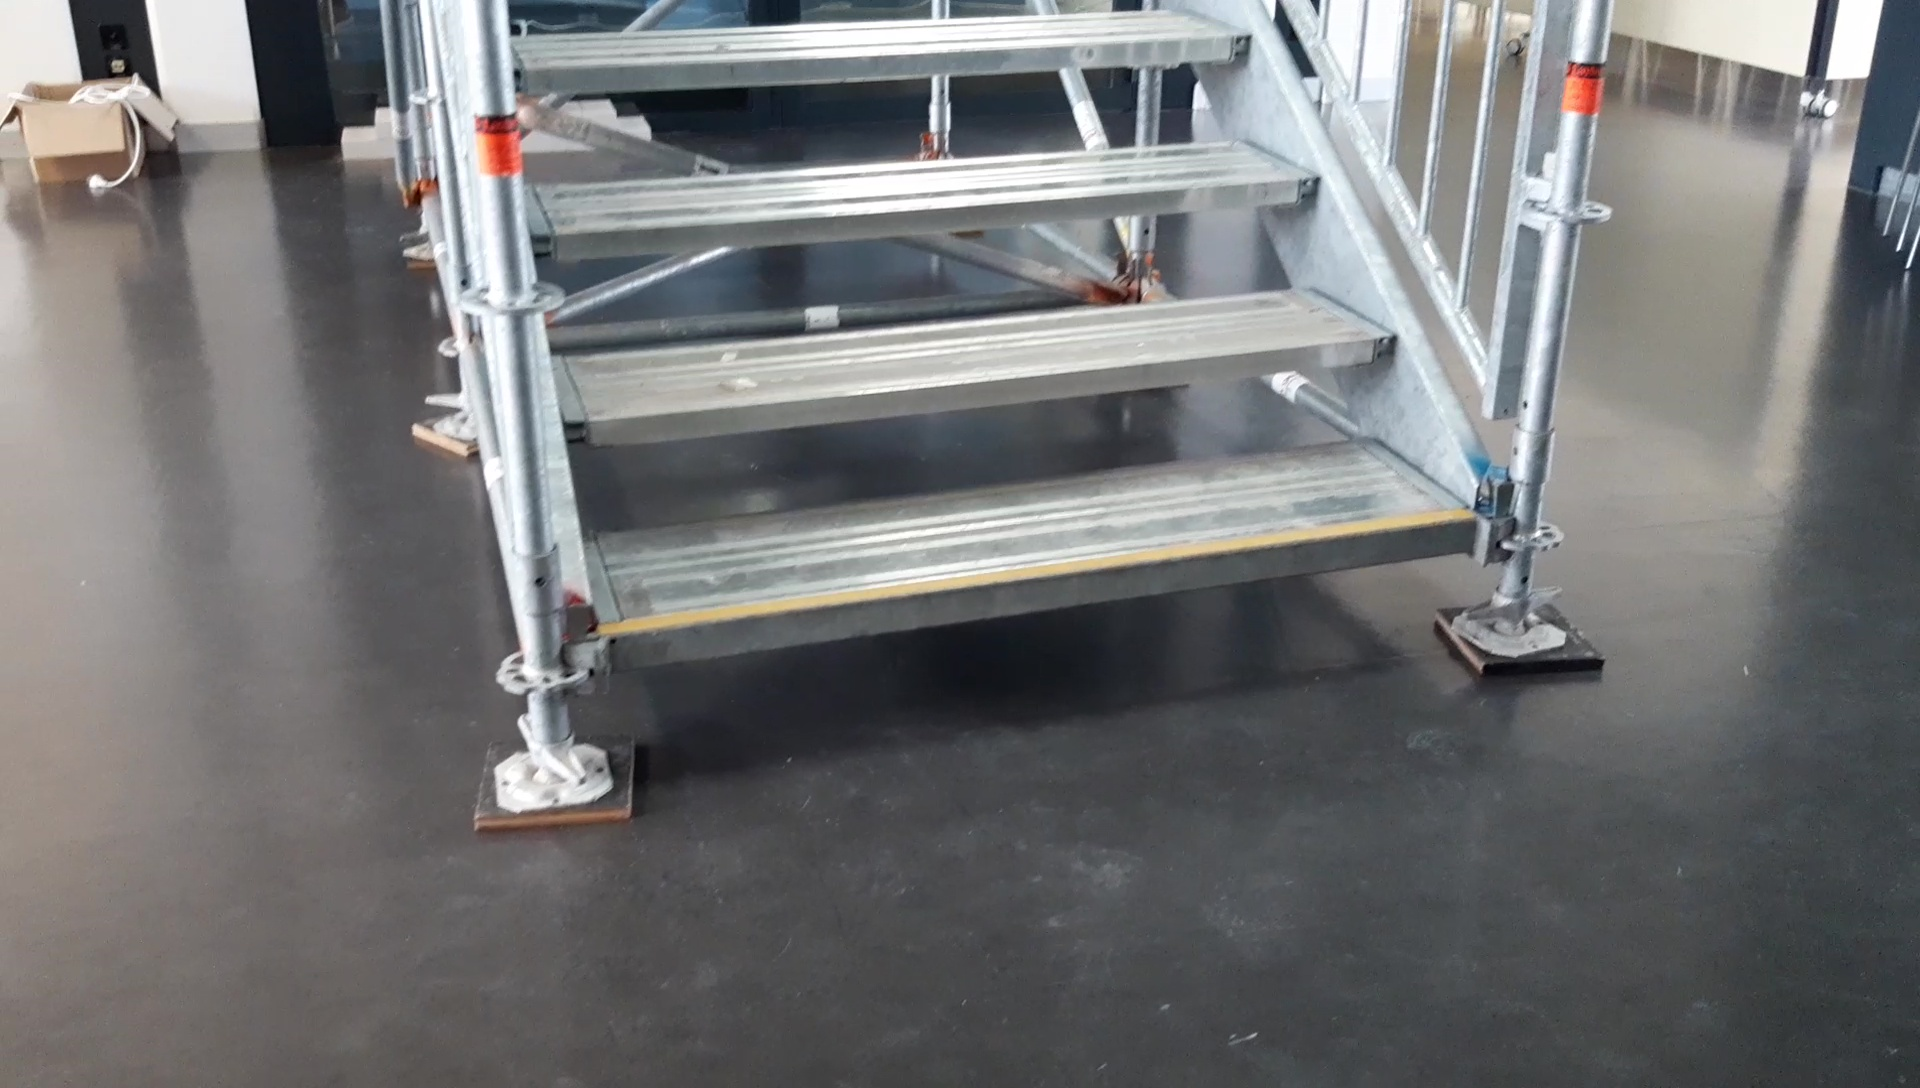edge: (608, 518, 1477, 666), (564, 332, 1395, 444), (531, 175, 1323, 258), (513, 33, 1250, 92)
stairs: (471, 3, 1607, 820)
